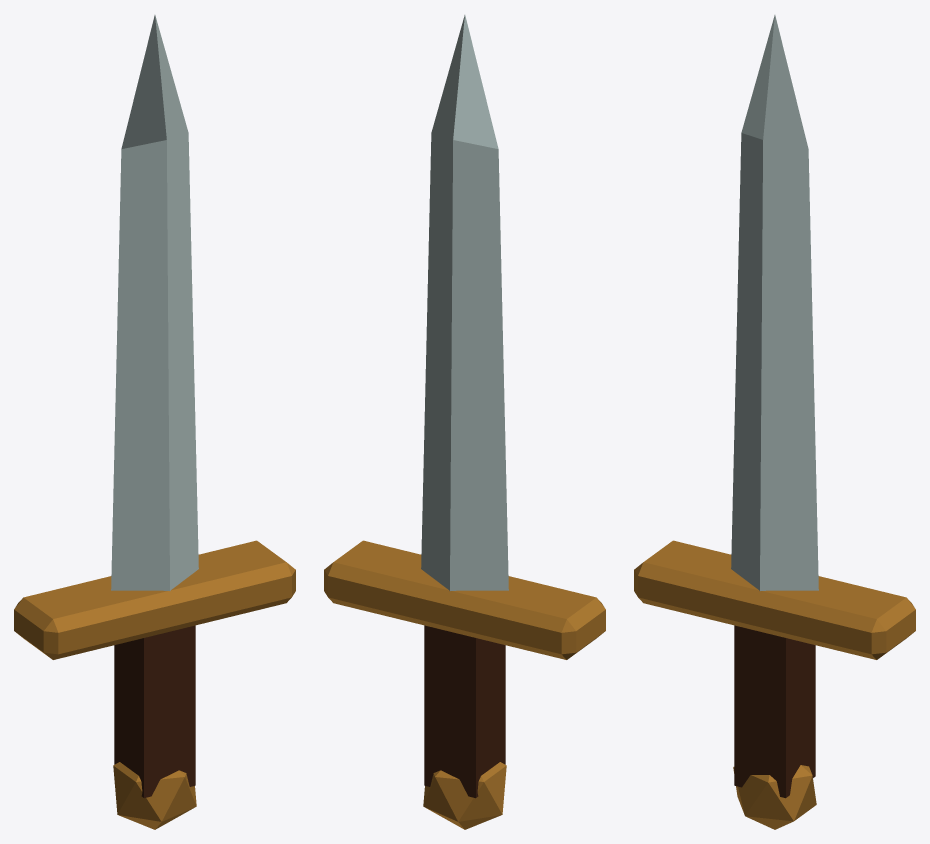
Rendered from SwordTool.fbx.
3 renders of one model, left to right at view 1: azimuth 30°, elevation 25°; view 2: azimuth 150°, elevation 25°; view 3: azimuth 330°, elevation 25°, orthographic.
Visible parts, largest first — view 1: SwordTool_Mesh; view 2: SwordTool_Mesh; view 3: SwordTool_Mesh.
Part boxes in pixels (x1,y1,x2,y2): SwordTool_Mesh: (14,15,295,829); SwordTool_Mesh: (324,15,605,829); SwordTool_Mesh: (634,15,915,829).
Bounding box in the file's own units: 0.27 × 0.835 × 0.075.
